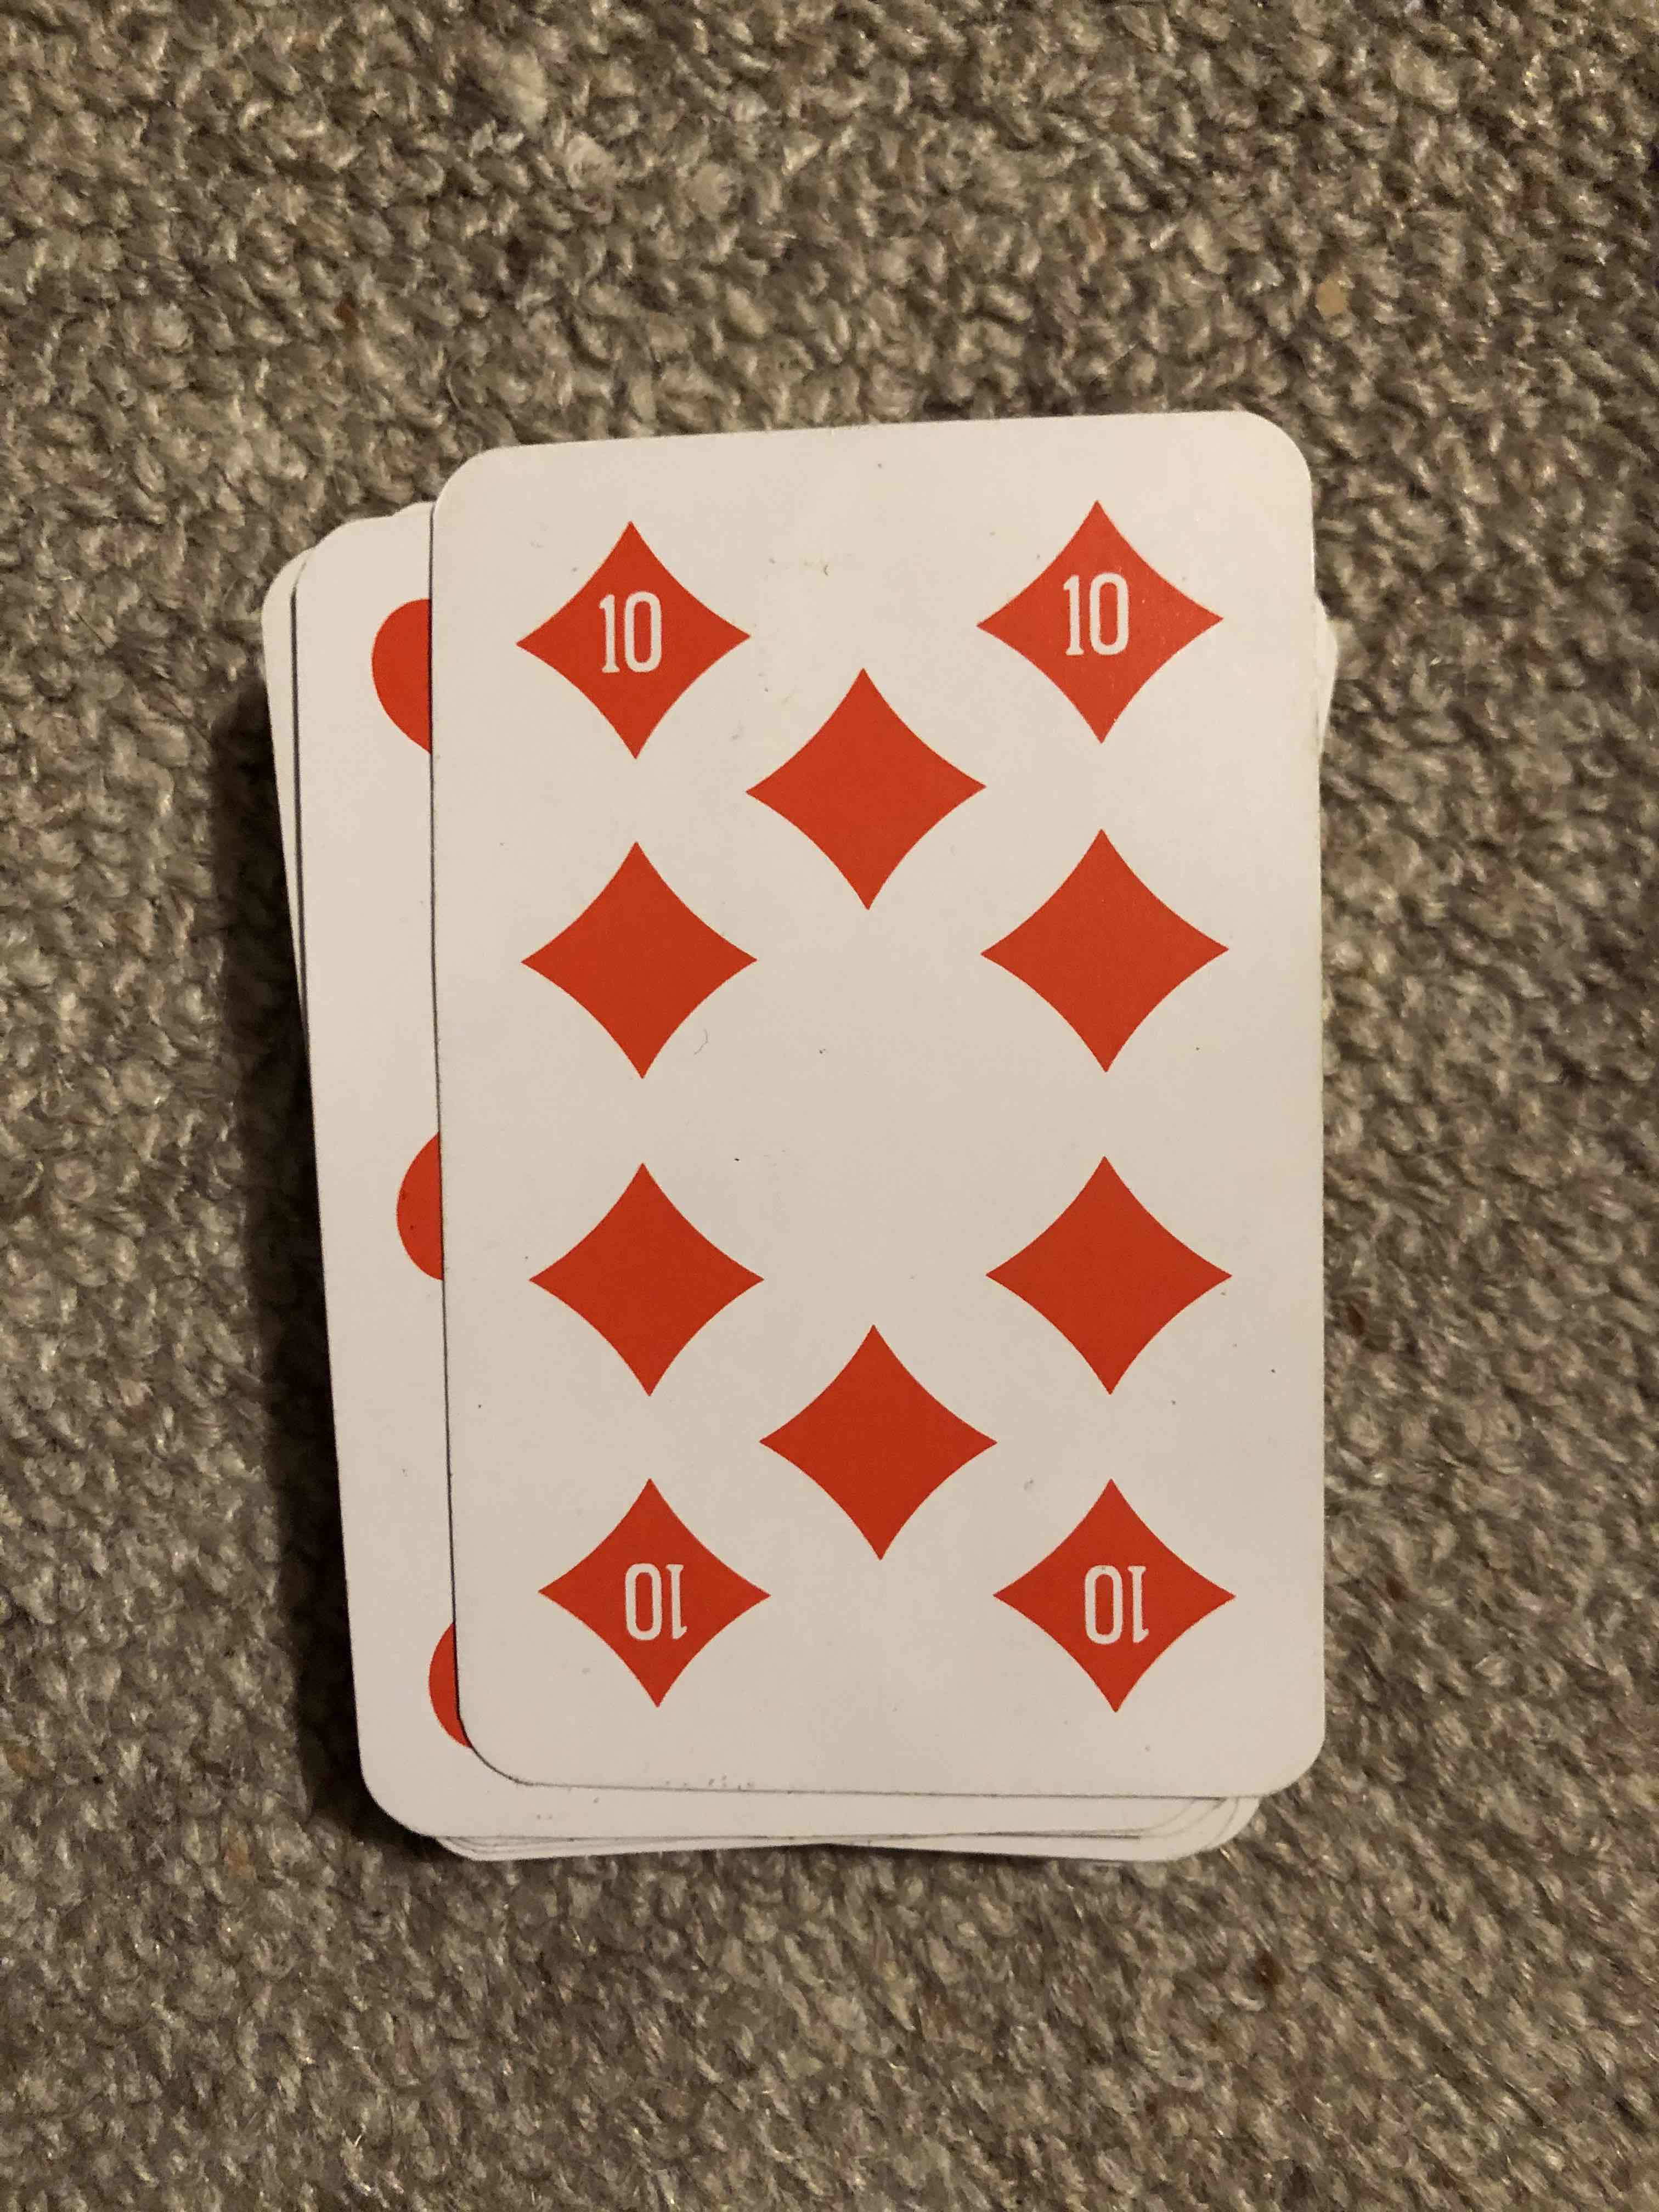diamond10: (453, 448, 1321, 1784)
